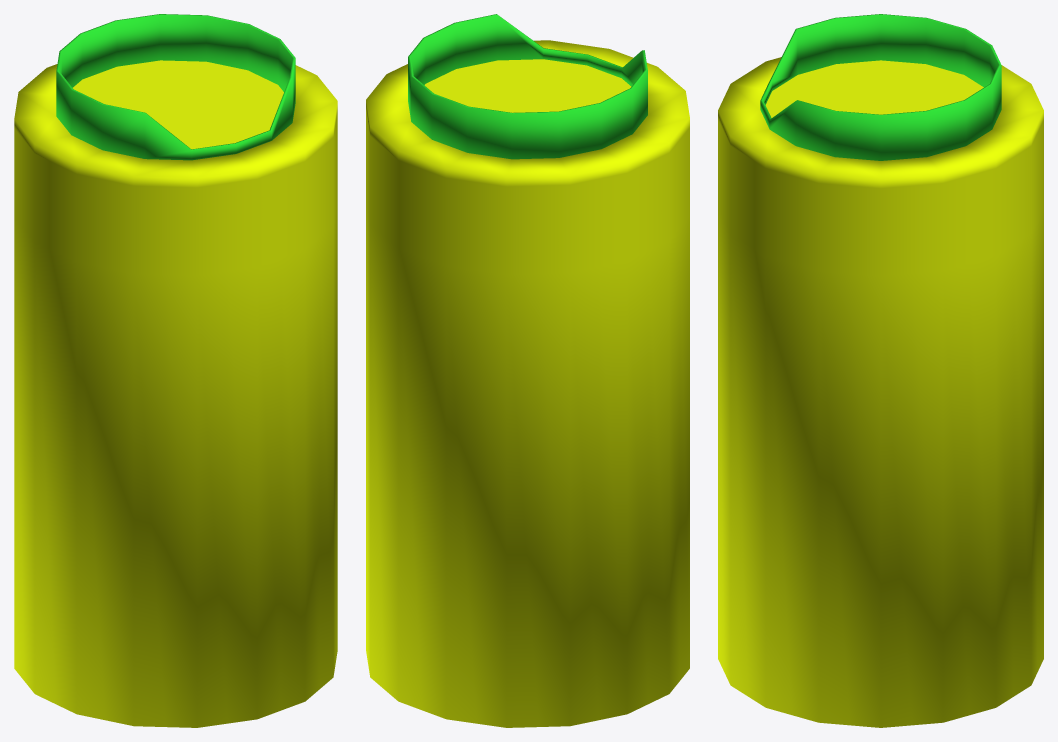
The model's file is MisirYuvasiz.fbx.
3 renders of one model, left to right at view 1: azimuth 30°, elevation 25°; view 2: azimuth 150°, elevation 25°; view 3: azimuth 270°, elevation 25°, orthographic.
Parts seen in each view (by area): view 1: Normal.002; view 2: Normal.002; view 3: Normal.002.
Boxes of the visible parts, x1,y1,x2,y2 form: Normal.002: (14,14,337,727); Normal.002: (366,14,689,727); Normal.002: (718,14,1043,727).
Bounding box in the file's own units: 106 × 214 × 106.
